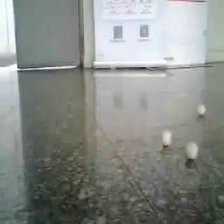tennis: (138, 101, 161, 130), (68, 75, 85, 96), (183, 71, 199, 92)
